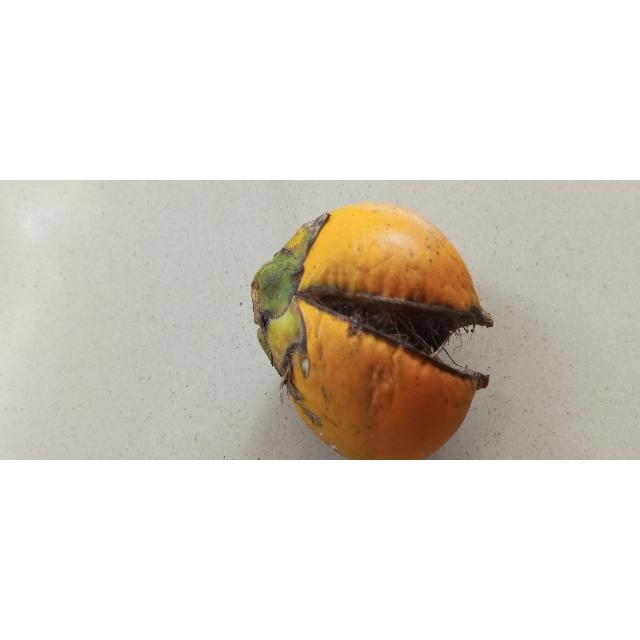damaged: (251, 203, 493, 461)
